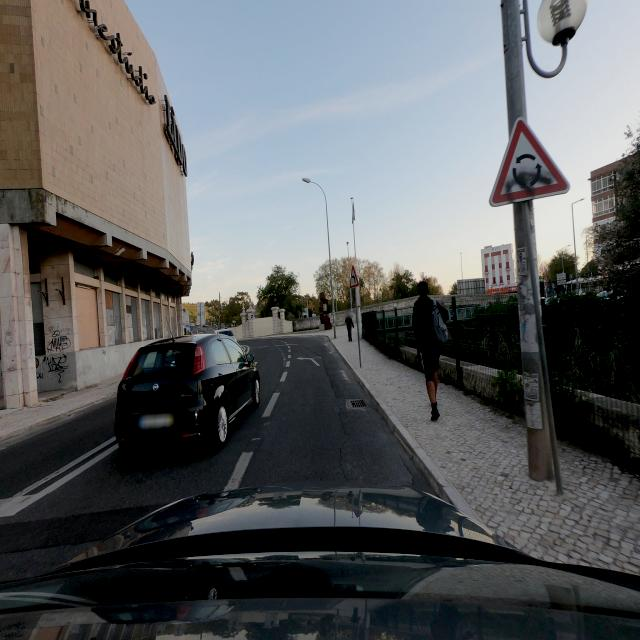car: (115, 330, 262, 455), (218, 328, 236, 338)
